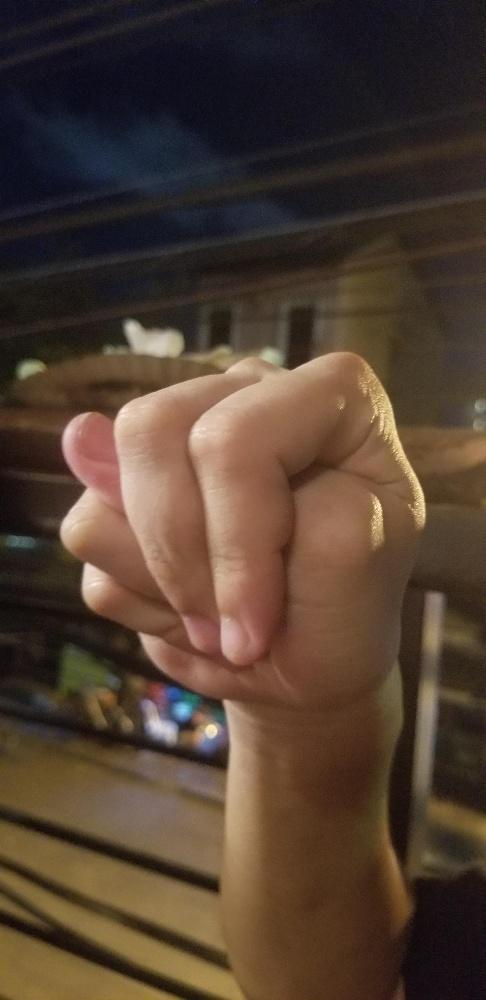n: (52, 343, 430, 707)
